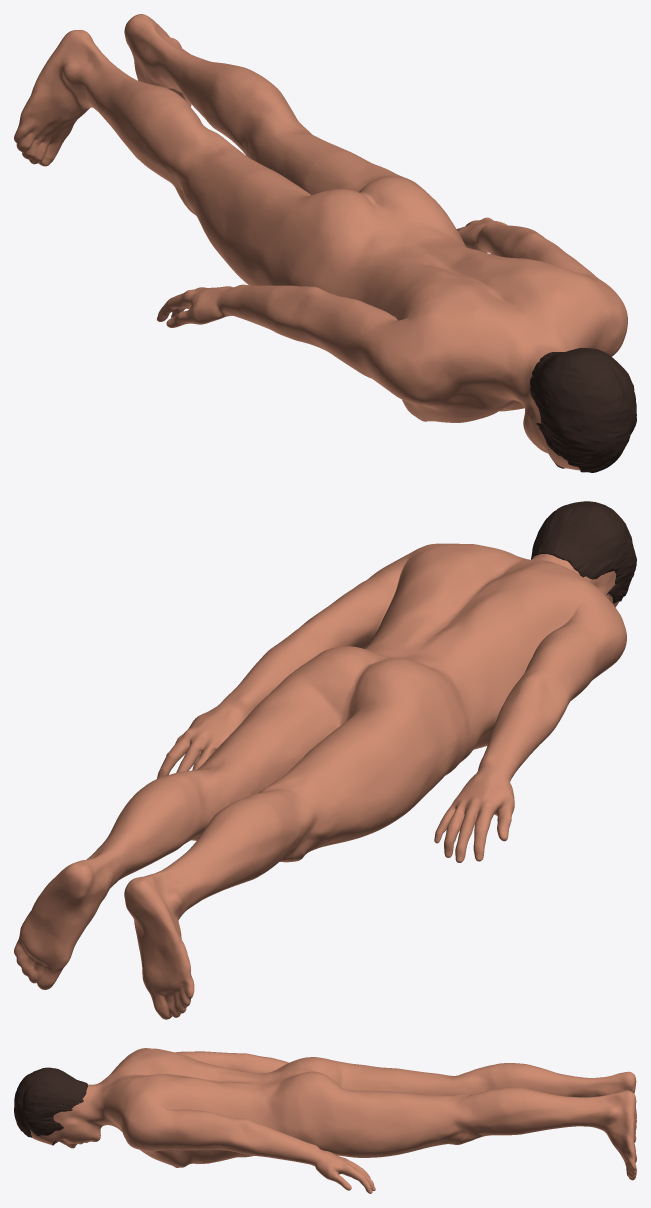
File: skin_hair_bodyparts3d_v4.glb
3 views of the same model, one above another, from view 1: azimuth 30°, elevation 25°; view 2: azimuth 150°, elevation 25°; view 3: azimuth 270°, elevation 25° (orthographic). The views are drawn at different scales.
Visible parts, largest first — view 1: BodyParts3D_skin_surface_skin_FJ2810, BodyParts3D_hair_appendages_hair_of_head_FJ2813; view 2: BodyParts3D_skin_surface_skin_FJ2810, BodyParts3D_hair_appendages_hair_of_head_FJ2813; view 3: BodyParts3D_skin_surface_skin_FJ2810, BodyParts3D_hair_appendages_hair_of_head_FJ2813.
Boxes of the visible parts, x1,y1,x2,y2 form: BodyParts3D_skin_surface_skin_FJ2810: [14, 14, 627, 470]; BodyParts3D_hair_appendages_hair_of_head_FJ2813: [530, 348, 636, 472]; BodyParts3D_skin_surface_skin_FJ2810: [14, 543, 626, 1019]; BodyParts3D_hair_appendages_hair_of_head_FJ2813: [531, 501, 636, 603]; BodyParts3D_skin_surface_skin_FJ2810: [30, 1048, 636, 1193]; BodyParts3D_hair_appendages_hair_of_head_FJ2813: [14, 1067, 87, 1137].
Bounding box in the file's own units: 667 × 292 × 1730.
